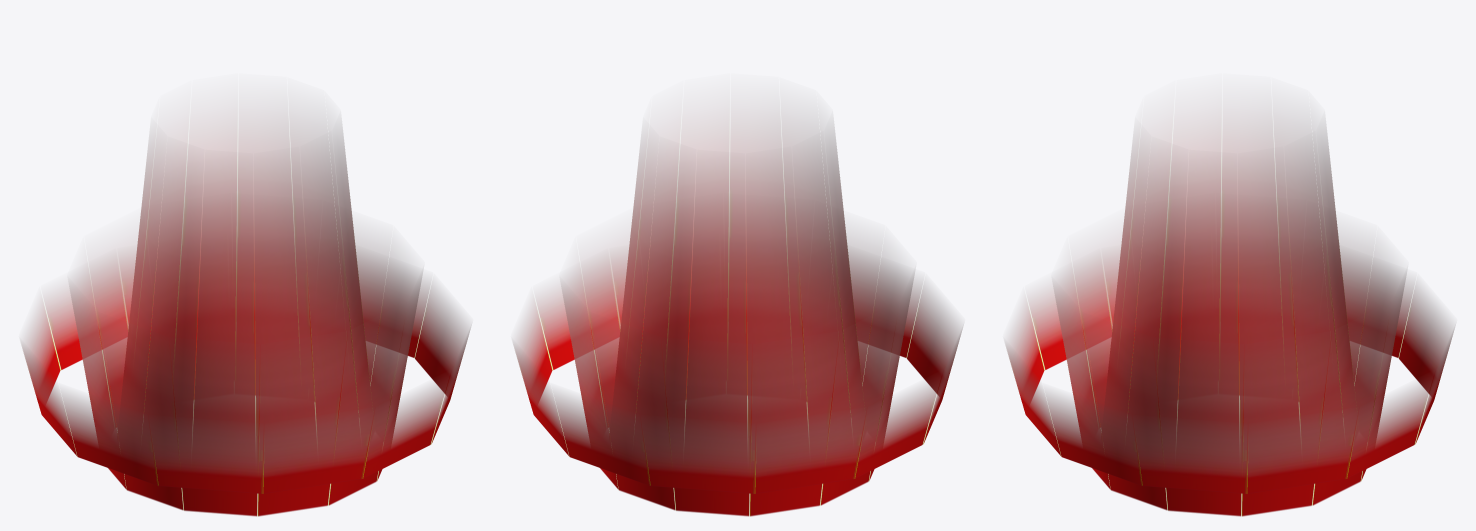
Rendered from pm-portal-fade-01.glb.
3 renders of one model, left to right at view 1: azimuth 30°, elevation 25°; view 2: azimuth 150°, elevation 25°; view 3: azimuth 270°, elevation 25°, orthographic.
Parts seen in each view (by area): view 1: PortalFade01; view 2: PortalFade01; view 3: PortalFade01.
Part boxes in pixels (x1=…): PortalFade01: x1=20, y1=103, x2=471, y2=516; PortalFade01: x1=512, y1=103, x2=963, y2=516; PortalFade01: x1=1004, y1=103, x2=1455, y2=516.
Bounding box in the file's own units: 1.66 × 1.59 × 1.66.
Materials: 1 (1 with a texture image).
